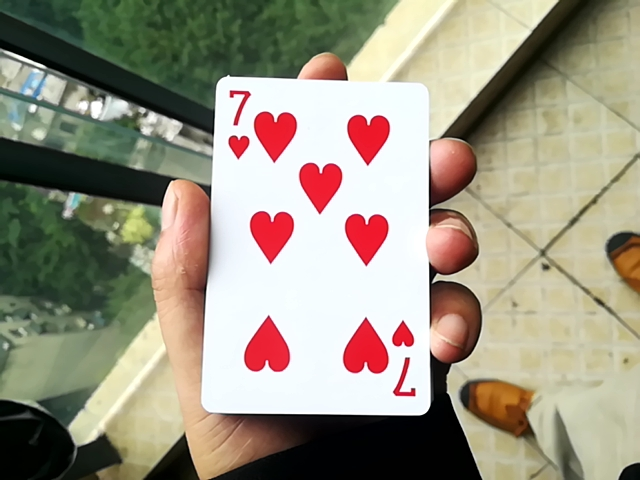hx 7: (192, 67, 428, 426)
